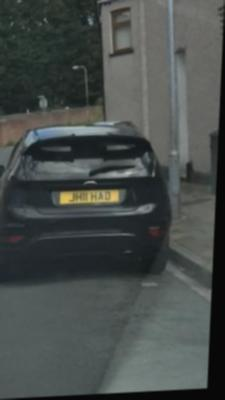License_Plate: (59, 187, 118, 204)
